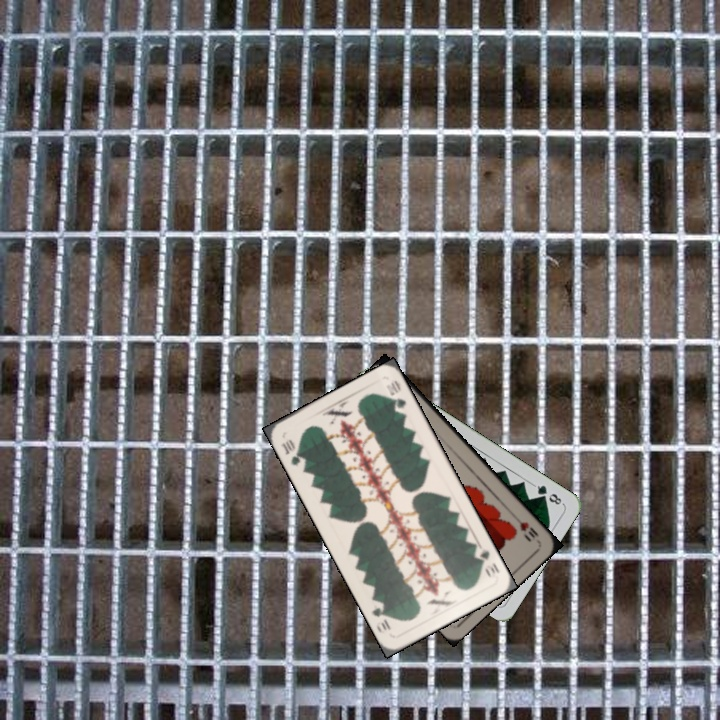G10: (277, 434, 308, 469), (474, 547, 502, 581)
G8: (529, 480, 564, 507)
H10: (510, 512, 541, 540)
